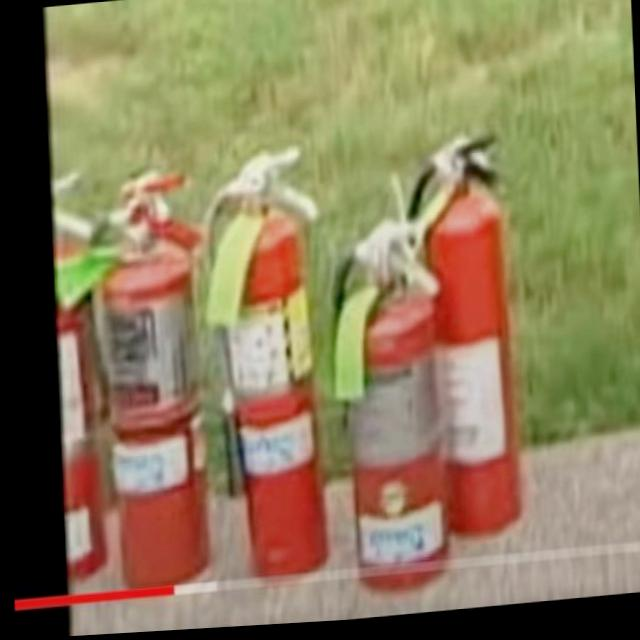FireExtinguisher: (194, 137, 334, 591), (87, 160, 219, 606), (393, 138, 527, 556), (318, 207, 453, 604), (40, 165, 114, 591)
